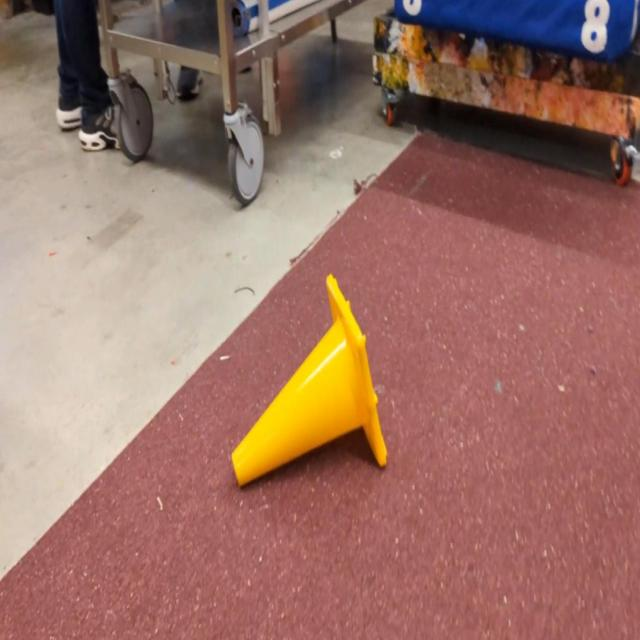frc_cone: (231, 274, 389, 486)
